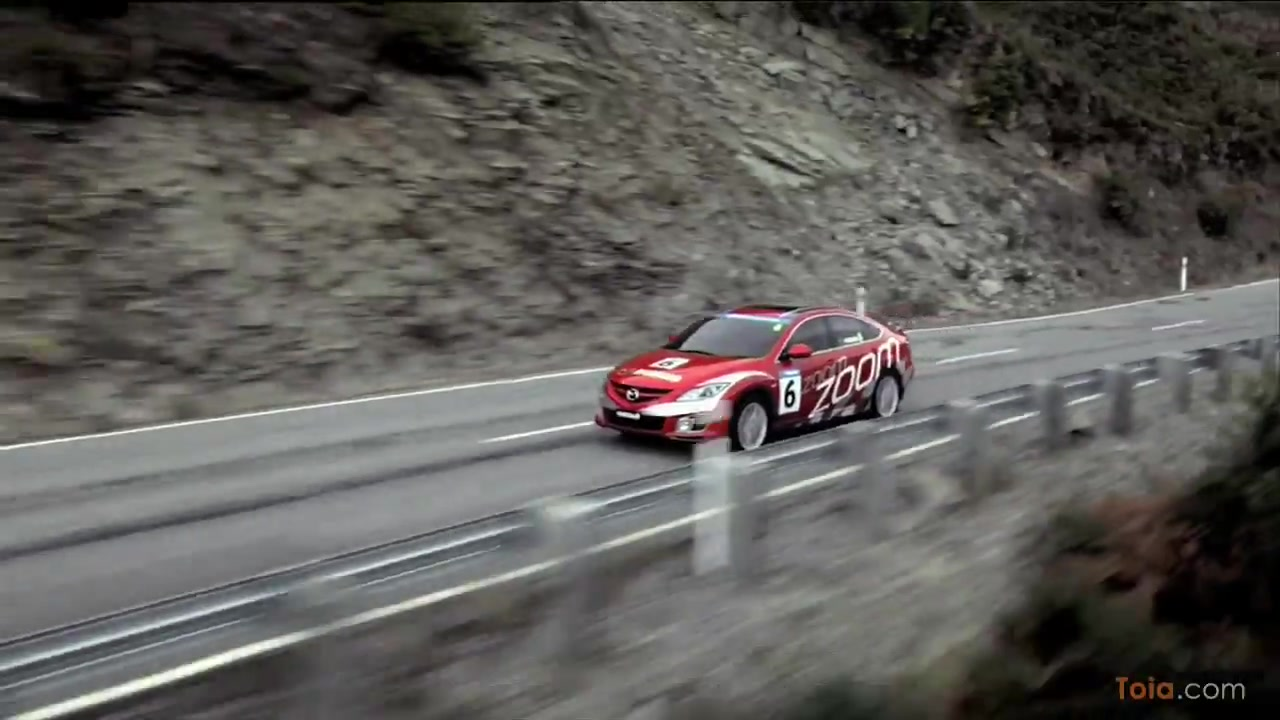car: (591, 299, 922, 458)
